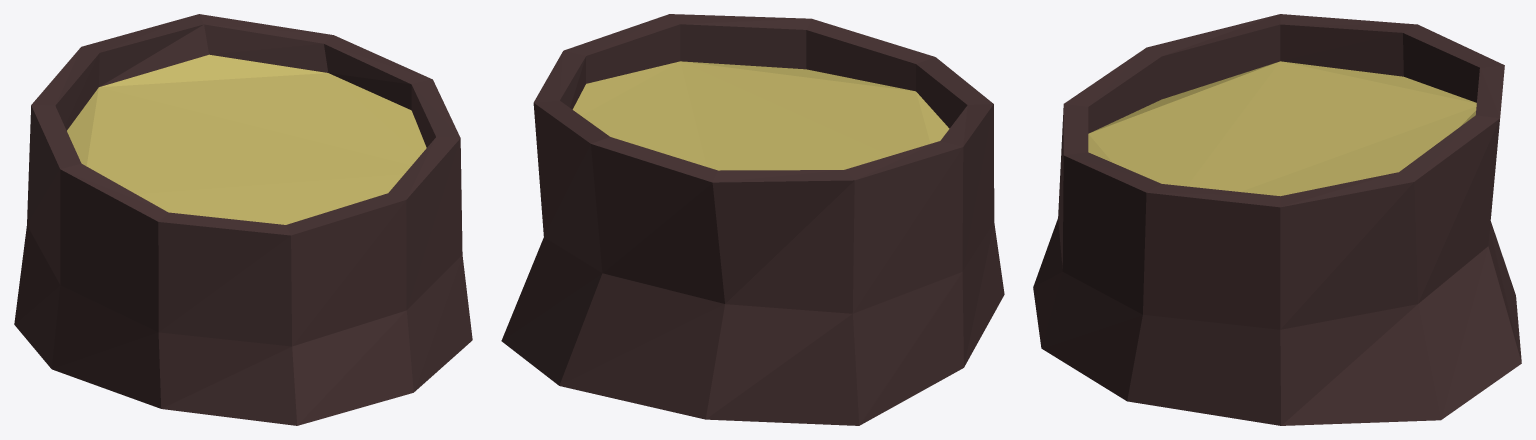
Rendered from A_treestump_Short.FBX.
3 views of the same model, side by side, from view 1: azimuth 30°, elevation 25°; view 2: azimuth 150°, elevation 25°; view 3: azimuth 270°, elevation 25° (orthographic). The views are drawn at different scales.
Parts seen in each view (by area): view 1: A_treestump_b001, A_treestump_t001; view 2: A_treestump_b001, A_treestump_t001; view 3: A_treestump_b001, A_treestump_t001.
Part boxes in pixels (<box>): A_treestump_b001: <box>14,14,472,425</box>; A_treestump_t001: <box>67,54,426,224</box>; A_treestump_b001: <box>501,14,1004,425</box>; A_treestump_t001: <box>572,61,949,170</box>; A_treestump_b001: <box>1033,14,1521,425</box>; A_treestump_t001: <box>1088,61,1476,196</box>.
Bounding box in the file's own units: 0.6354 × 0.3663 × 0.6572.
